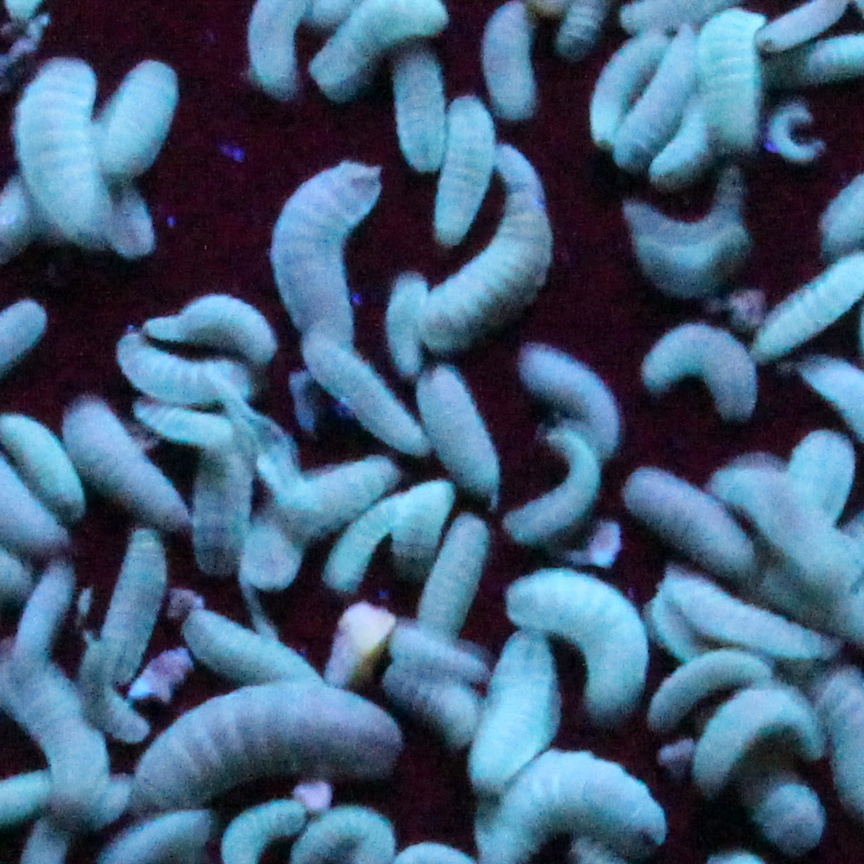larve: (125, 690, 410, 819), (494, 560, 658, 721), (264, 156, 385, 347), (54, 390, 197, 532), (9, 64, 120, 244), (178, 579, 323, 713), (495, 336, 632, 466), (302, 324, 430, 455), (402, 350, 508, 503), (691, 680, 830, 789), (94, 522, 174, 706), (92, 42, 184, 201), (609, 190, 746, 295), (495, 426, 610, 550), (413, 496, 497, 657), (114, 321, 264, 411), (577, 13, 674, 152), (620, 462, 754, 562), (139, 274, 282, 366), (635, 319, 762, 417), (690, 4, 769, 160), (430, 90, 502, 245)
